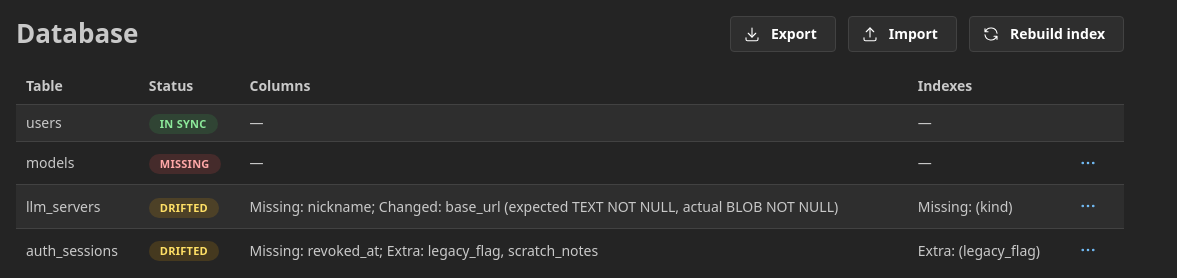
Scenario: the menu offers only the action the row's status allows › a missing row's menu offers Create and not Sync — DoD-1 (UC-015, D4)
Click the submit button at (1088, 163), box [1074,149,1102,177]
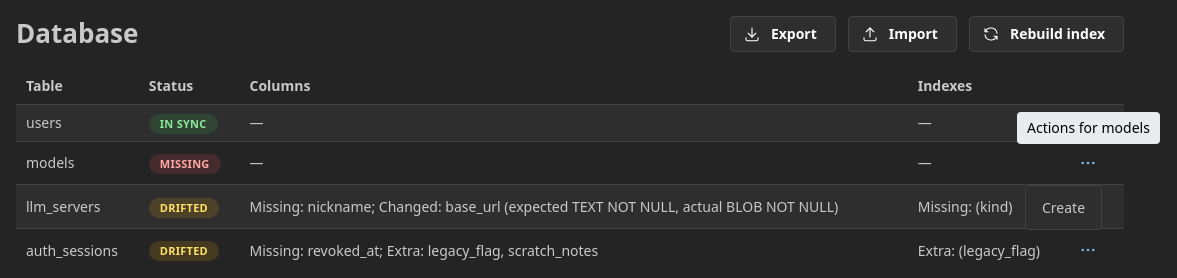
Result: the menu item "Create" is shown at [1030,190,1097,225]
